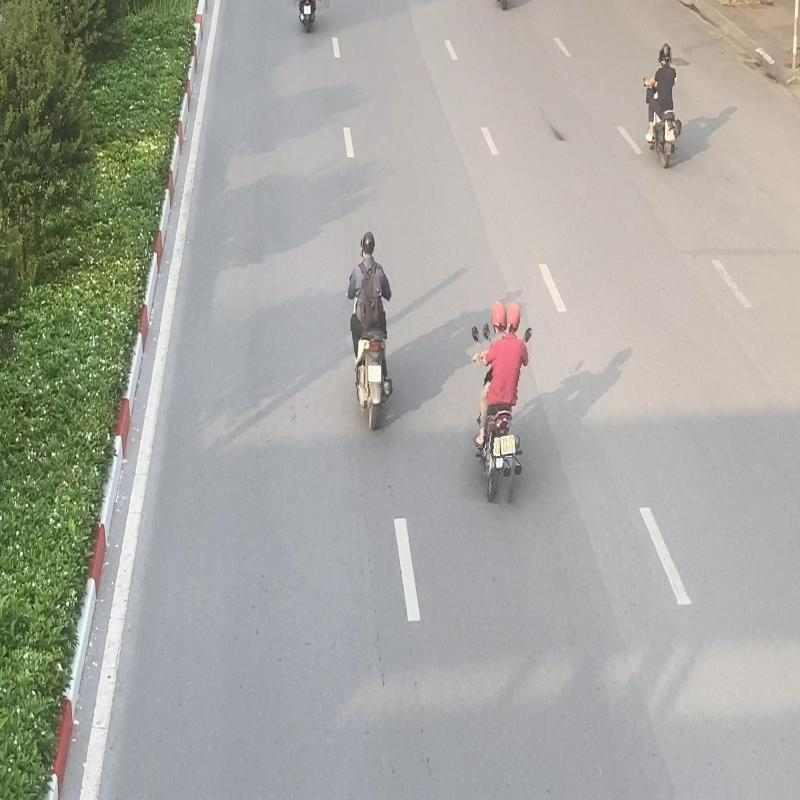helmet: (490, 300, 508, 333), (362, 230, 376, 262), (658, 44, 672, 64)
licenseplate: (500, 435, 516, 458), (368, 366, 382, 384), (665, 128, 676, 141)
motorcyclist: (464, 299, 532, 504), (346, 228, 394, 433), (642, 43, 682, 169)
